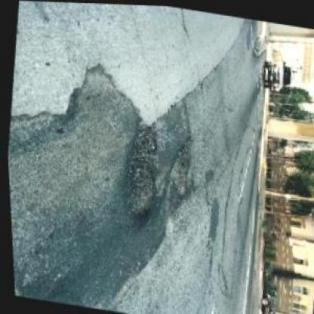Hueco: (114, 117, 165, 221), (163, 129, 197, 198)
